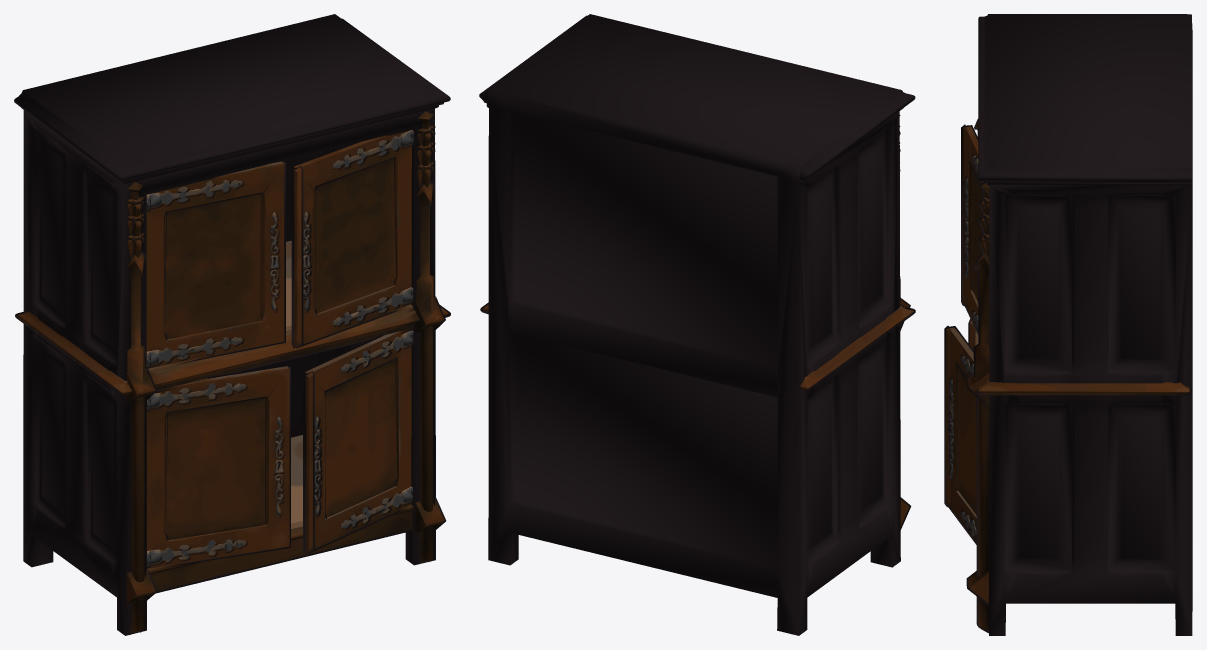
The model's file is SM_Int_Wardrobe.fbx.
3 renders of one model, left to right at view 1: azimuth 30°, elevation 25°; view 2: azimuth 150°, elevation 25°; view 3: azimuth 270°, elevation 25°, orthographic.
Visible parts, largest first — view 1: SM_Int_Wardrobe; view 2: SM_Int_Wardrobe; view 3: SM_Int_Wardrobe.
Part boxes in pixels (x1,y1,x2,y2): SM_Int_Wardrobe: (14, 14, 450, 635); SM_Int_Wardrobe: (479, 14, 915, 635); SM_Int_Wardrobe: (944, 14, 1192, 635).
Size of what is drawn, in the model's own units: 1.54 by 2.11 by 1.01.
